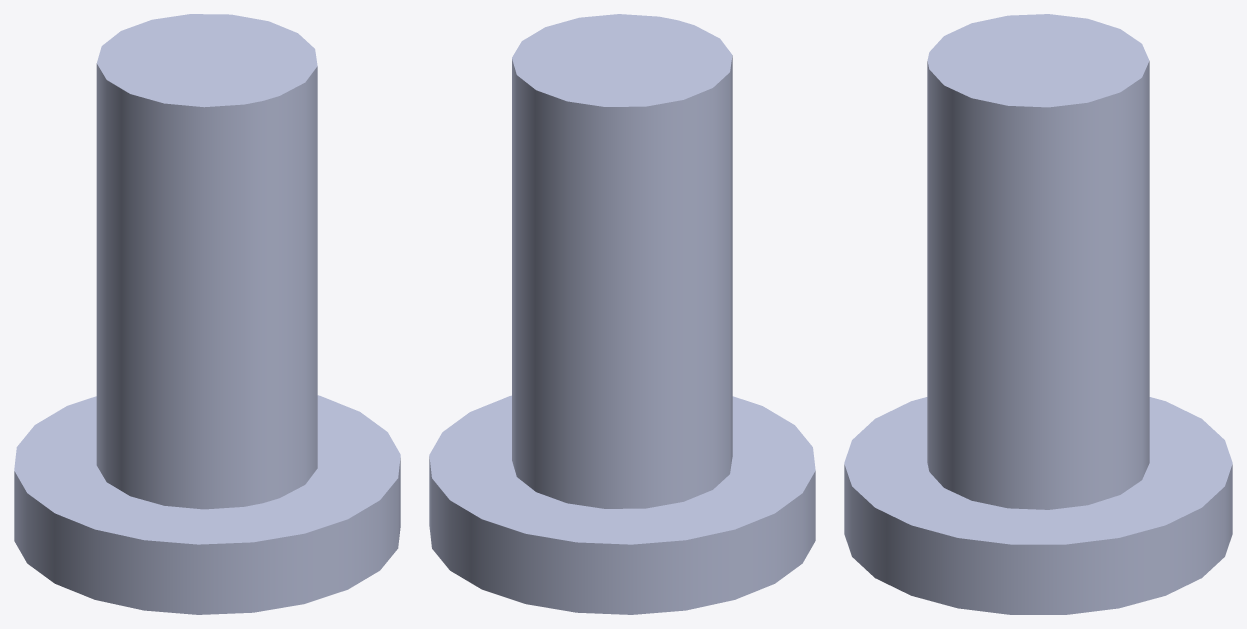
File: M2x4_lowhead_1.dae
3 renders of one model, left to right at view 1: azimuth 30°, elevation 25°; view 2: azimuth 150°, elevation 25°; view 3: azimuth 270°, elevation 25°, orthographic.
Visible parts, largest first — view 1: node0; view 2: node0; view 3: node0.
Part boxes in pixels (x1,y1,x2,y2): node0: [14, 14, 400, 614]; node0: [429, 14, 815, 614]; node0: [844, 14, 1232, 614].
Bounding box in the file's own units: 0.00346 × 0.0047 × 0.0035.
